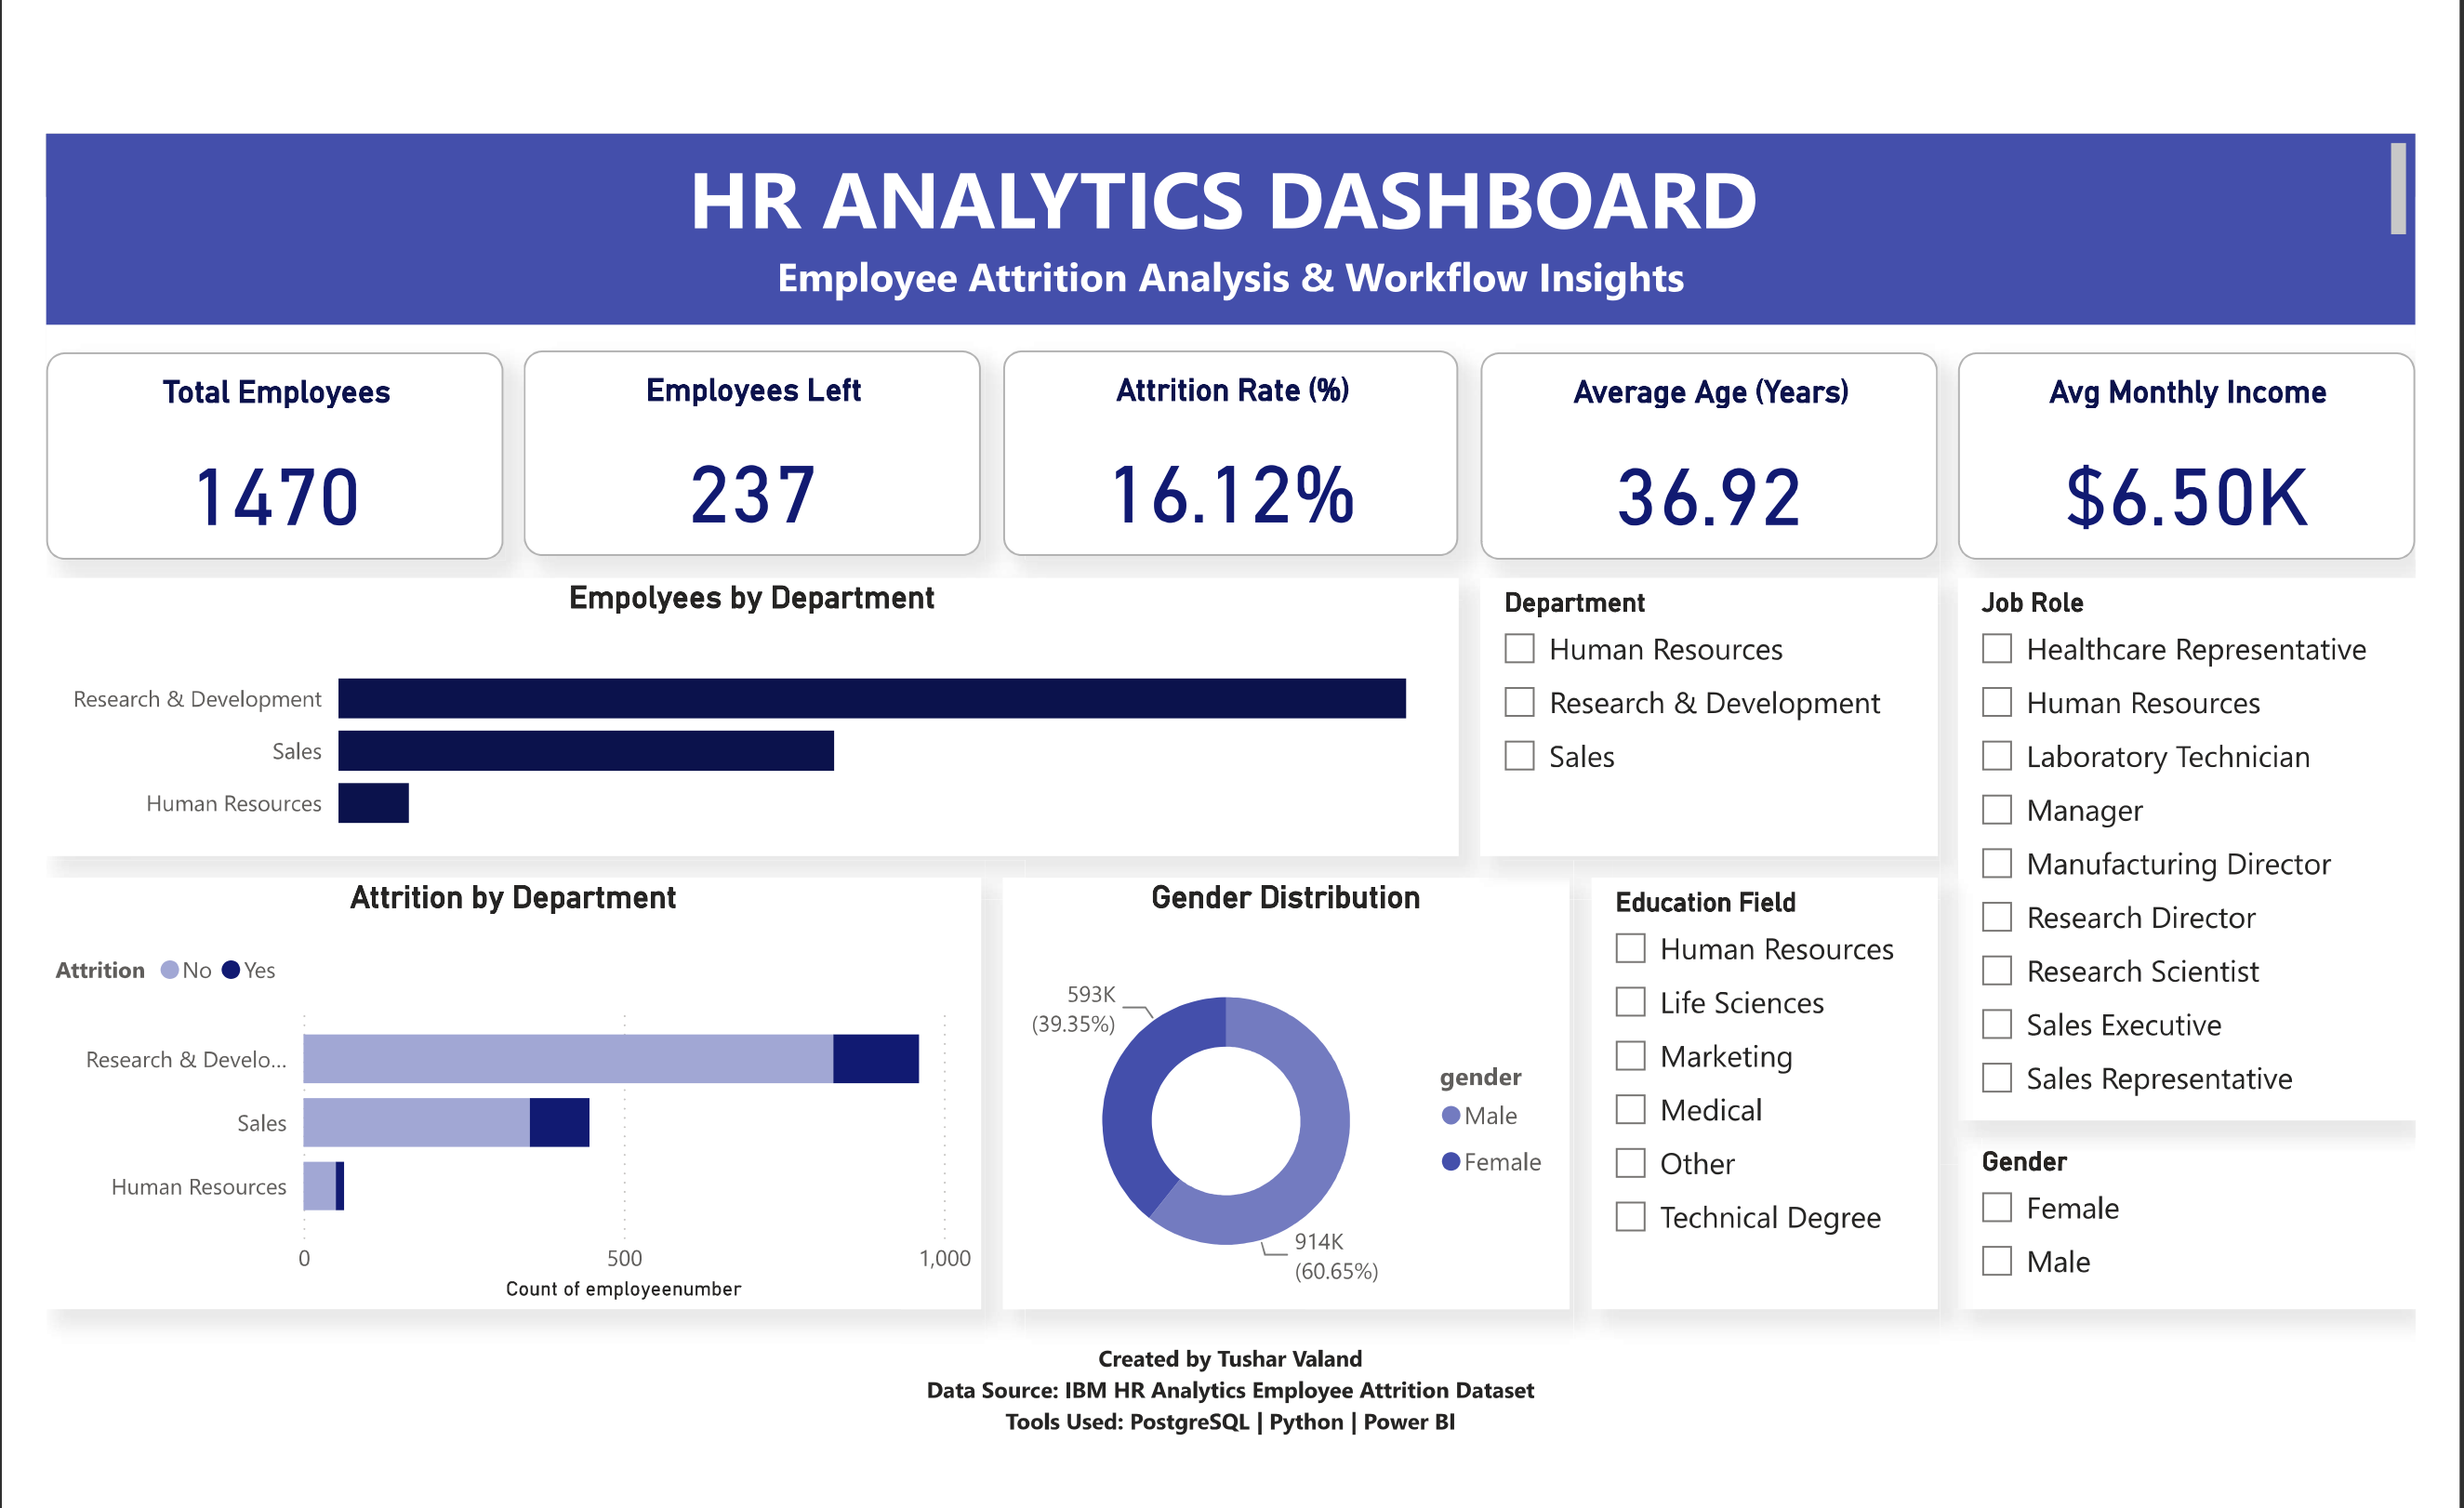

What the dashboard file says about the page in this screenshot:
{"tool":"powerbi","page":{"name":"Page 1","canvas":[1280,720],"ordinal":0},"visuals":[{"type":"card","title":"Total Employees","fields":{"Values":["public employees.Total Employees"]},"box":[0,118.3,246.7,111.7],"z":0},{"type":"shape","box":[0,0,1280,103.3],"z":1000},{"type":"textbox","box":[0,0,1280,63.3],"z":2000},{"type":"textbox","box":[0,56.7,1280,46.7],"z":3000},{"type":"card","title":"Employees Left","fields":{"Values":["public employees.Attrition Count"]},"box":[258.3,116.7,246.7,111.7],"z":4000},{"type":"card","title":"Attrition Rate (%)","fields":{"Values":["public employees.Attrition Rate"]},"box":[516.7,116.7,246.7,111.7],"z":5000},{"type":"card","title":"Average Age (Years)","fields":{"Values":["public employees.Average Age"]},"box":[775,118.3,246.7,111.7],"z":6000},{"type":"card","title":"Avg Monthly Income","fields":{"Values":["public employees.Average Income"]},"box":[1033.3,118.3,246.7,111.7],"z":7000},{"type":"clusteredBarChart","title":"Empolyees by Department","fields":{"Category":["public employees.department"],"Y":["CountNonNull(public employees.employeenumber)"]},"box":[0,240,763.3,150],"z":8000},{"type":"barChart","title":"Attrition by Department","fields":{"Category":["public employees.department"],"Y":["CountNonNull(public employees.employeenumber)"],"Series":["public employees.attrition"]},"box":[0,401.7,505,233.3],"z":9000},{"type":"donutChart","title":"Gender Distribution","fields":{"Category":["public employees.gender"],"Y":["Sum(public employees.employeenumber)"]},"box":[516.7,401.7,306.7,233.3],"z":10000},{"type":"slicer","fields":{"Values":["public employees.department"]},"box":[775,240,246.7,150],"z":11000},{"type":"slicer","fields":{"Values":["public employees.gender"]},"box":[1033.3,541.7,246.7,93.3],"z":12000},{"type":"slicer","fields":{"Values":["public employees.jobrole"]},"box":[1033.3,240,246.7,293.3],"z":13000},{"type":"slicer","fields":{"Values":["public employees.educationfield"]},"box":[835,401.7,186.7,233.3],"z":14000},{"type":"textbox","box":[0,646.7,1280,73.3],"z":15000}]}

Visuals, with their boxes on the page's 1280x720 design canvas (x1, y1, x2, y2). These are canvas units, not pixel positions in the 2464x1508 screenshot, which may show the page scaled, cropped or inside an application window:
"Total Employees" card: <bbox>0, 118, 247, 230</bbox>
shape: <bbox>0, 0, 1280, 103</bbox>
textbox: <bbox>0, 0, 1280, 63</bbox>
textbox: <bbox>0, 57, 1280, 103</bbox>
"Employees Left" card: <bbox>258, 117, 505, 228</bbox>
"Attrition Rate (%)" card: <bbox>517, 117, 763, 228</bbox>
"Average Age (Years)" card: <bbox>775, 118, 1022, 230</bbox>
"Avg Monthly Income" card: <bbox>1033, 118, 1280, 230</bbox>
"Empolyees by Department" clusteredBarChart: <bbox>0, 240, 763, 390</bbox>
"Attrition by Department" barChart: <bbox>0, 402, 505, 635</bbox>
"Gender Distribution" donutChart: <bbox>517, 402, 823, 635</bbox>
slicer - public employees.department: <bbox>775, 240, 1022, 390</bbox>
slicer - public employees.gender: <bbox>1033, 542, 1280, 635</bbox>
slicer - public employees.jobrole: <bbox>1033, 240, 1280, 533</bbox>
slicer - public employees.educationfield: <bbox>835, 402, 1022, 635</bbox>
textbox: <bbox>0, 647, 1280, 720</bbox>
